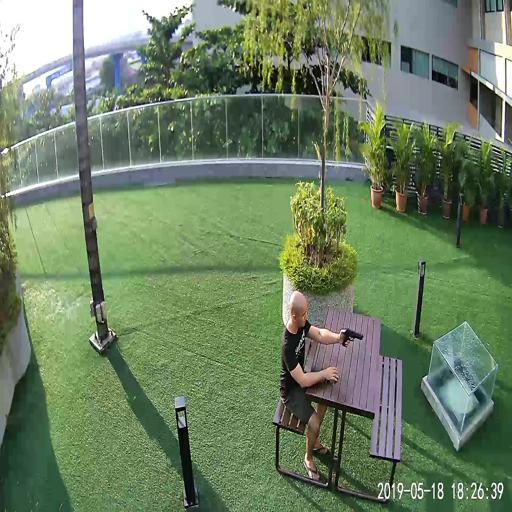pistol: (342, 326, 363, 347)
